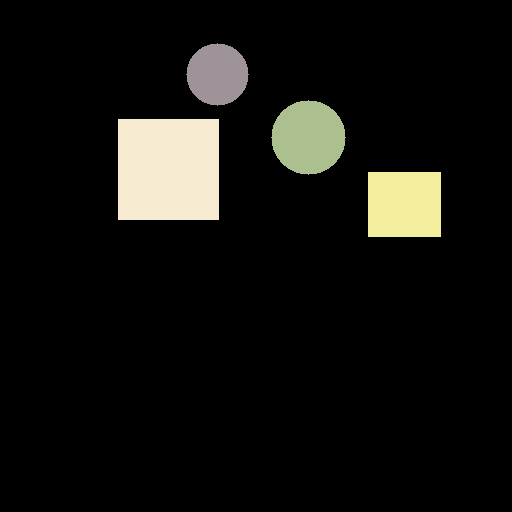circle: (271, 100, 345, 174), (186, 43, 248, 105)
rectangle: (368, 172, 440, 236)
square: (118, 119, 218, 219)
